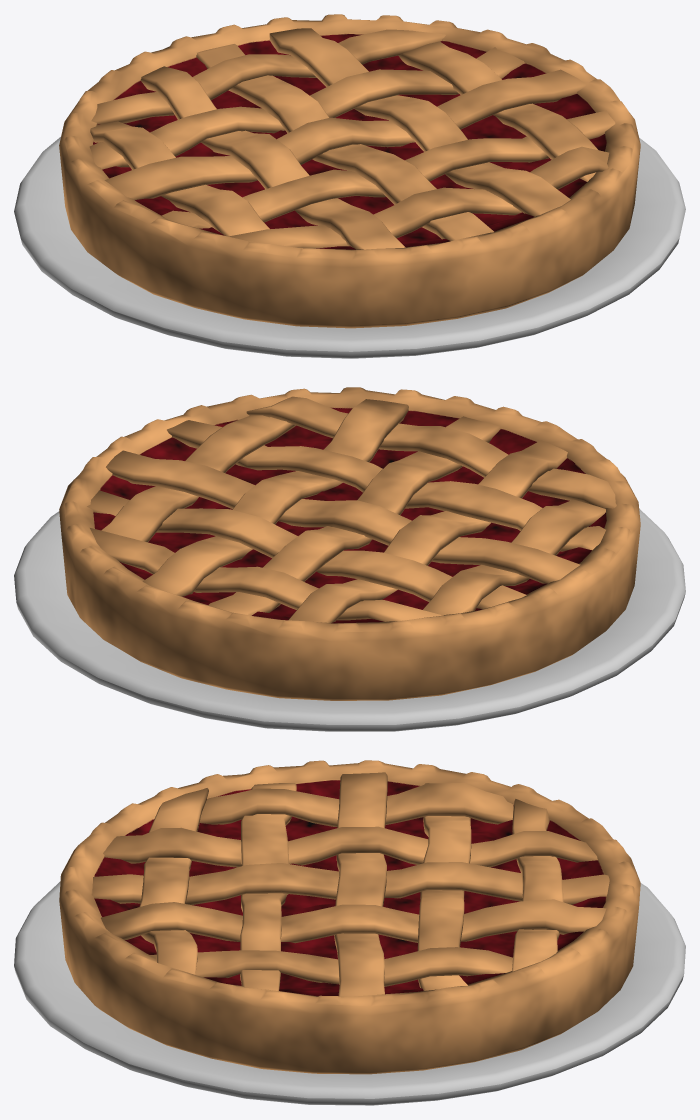
Rendered from 3December2020_Day08_Cherry_Pie_v1.fbx.
3 renders of one model, top to bottom at view 1: azimuth 30°, elevation 25°; view 2: azimuth 150°, elevation 25°; view 3: azimuth 270°, elevation 25°, orthographic.
Visible parts, largest first — view 1: Pie_Top_Cross, Pie_Main, Pie_Plate; view 2: Pie_Top_Cross, Pie_Main, Pie_Plate; view 3: Pie_Top_Cross, Pie_Main, Pie_Plate.
Boxes of the visible parts, left/top/right/bottom form: Pie_Top_Cross: left=89, top=28, right=615, bottom=249; Pie_Main: left=59, top=14, right=640, bottom=328; Pie_Plate: left=14, top=137, right=685, bottom=358; Pie_Top_Cross: left=87, top=396, right=616, bottom=622; Pie_Main: left=59, top=387, right=640, bottom=700; Pie_Plate: left=14, top=509, right=685, bottom=731; Pie_Top_Cross: left=91, top=772, right=609, bottom=996; Pie_Main: left=59, top=760, right=640, bottom=1074; Pie_Plate: left=14, top=881, right=685, bottom=1105.
Size of the model in its own units: 34.68 by 6.61 by 34.69.
